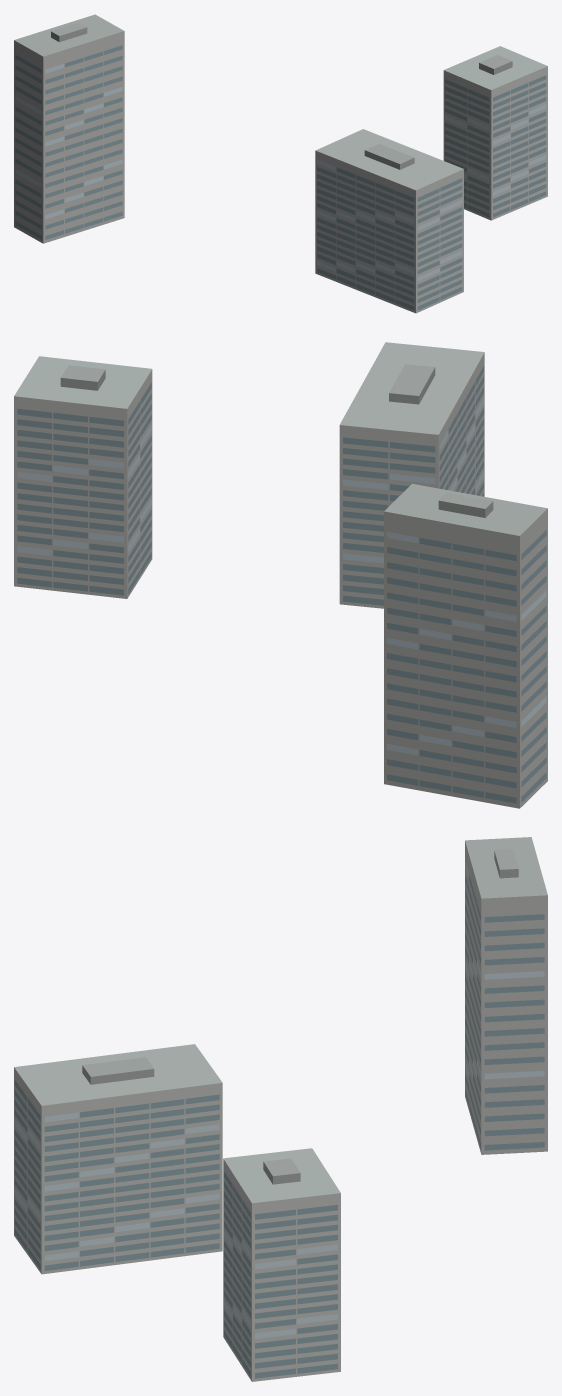
Rendered from apt-a10026434.glb.
3 renders of one model, top to bottom at view 1: azimuth 30°, elevation 25°; view 2: azimuth 150°, elevation 25°; view 3: azimuth 270°, elevation 25°, orthographic. The views are drawn at different scales.
Visible parts, largest first — view 1: apt-a10026434; view 2: apt-a10026434; view 3: apt-a10026434.
Part boxes in pixels (x1=…): apt-a10026434: x1=14, y1=14, x2=547, y2=313; apt-a10026434: x1=14, y1=342, x2=547, y2=808; apt-a10026434: x1=14, y1=837, x2=547, y2=1381.
Bounding box in the file's own units: 175 × 75 × 137.
